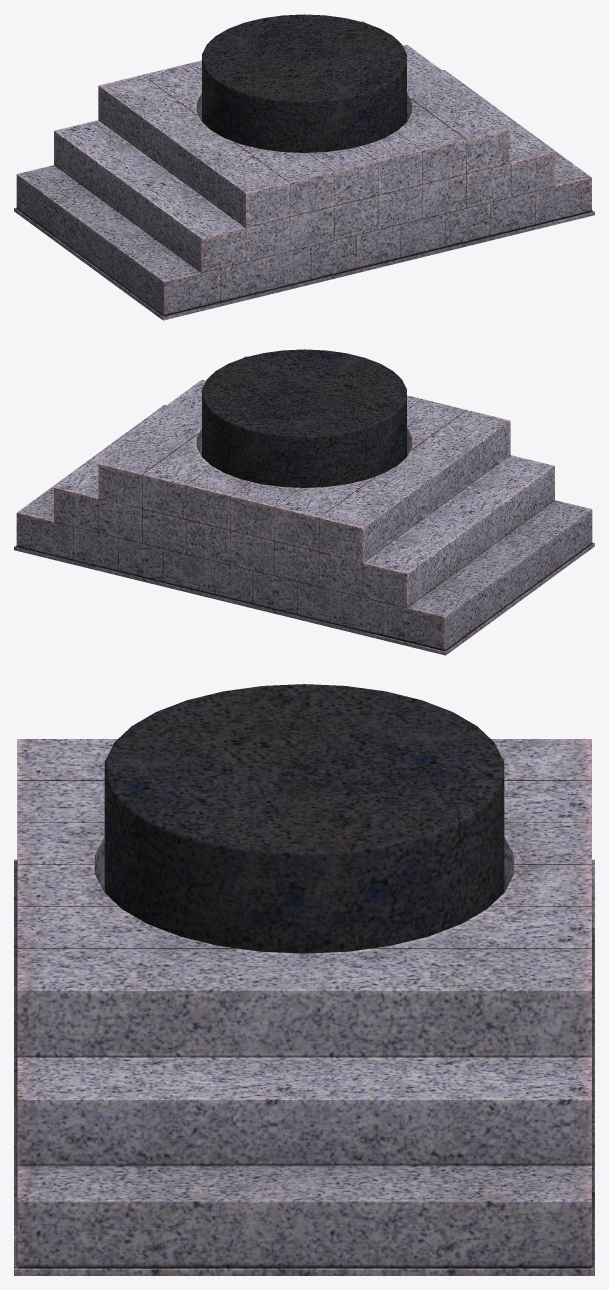
The model's file is Font.glb.
The picture shows the model from 3 angles, top to bottom: view 1: azimuth 30°, elevation 25°; view 2: azimuth 150°, elevation 25°; view 3: azimuth 270°, elevation 25°; orthographic projection. The views are drawn at different scales.
Parts seen in each view (by area): view 1: SM_Font_low; view 2: SM_Font_low; view 3: SM_Font_low.
Part boxes in pixels (x1,y1,x2,y2): SM_Font_low: (14, 14, 594, 320); SM_Font_low: (14, 349, 594, 655); SM_Font_low: (14, 684, 594, 1275).
Size of the model in its own units: 3.07 by 1.06 by 1.84.
1 material, 1 textured.
